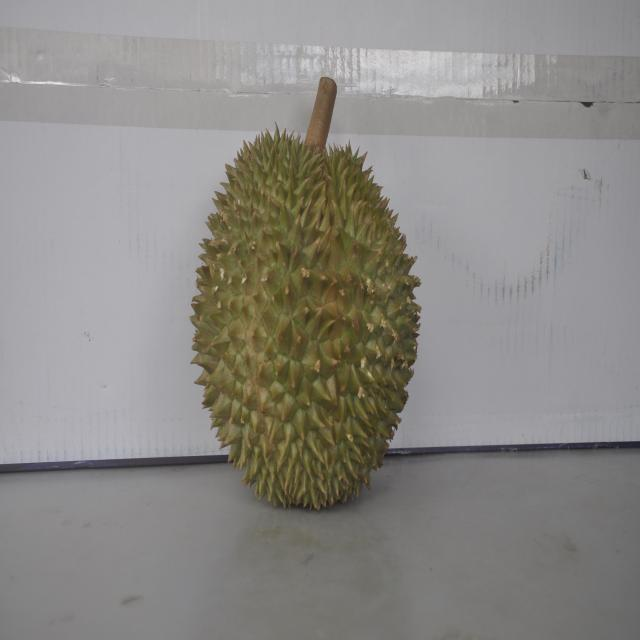mature: (194, 108, 418, 510)
